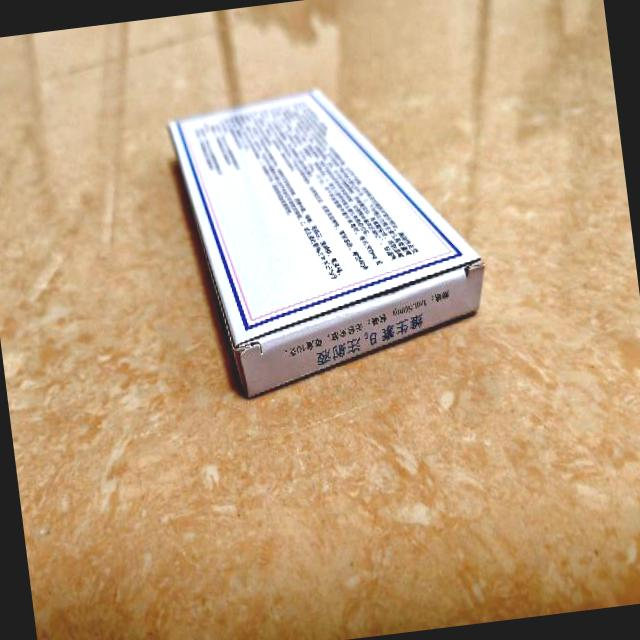box: (166, 71, 497, 405)
